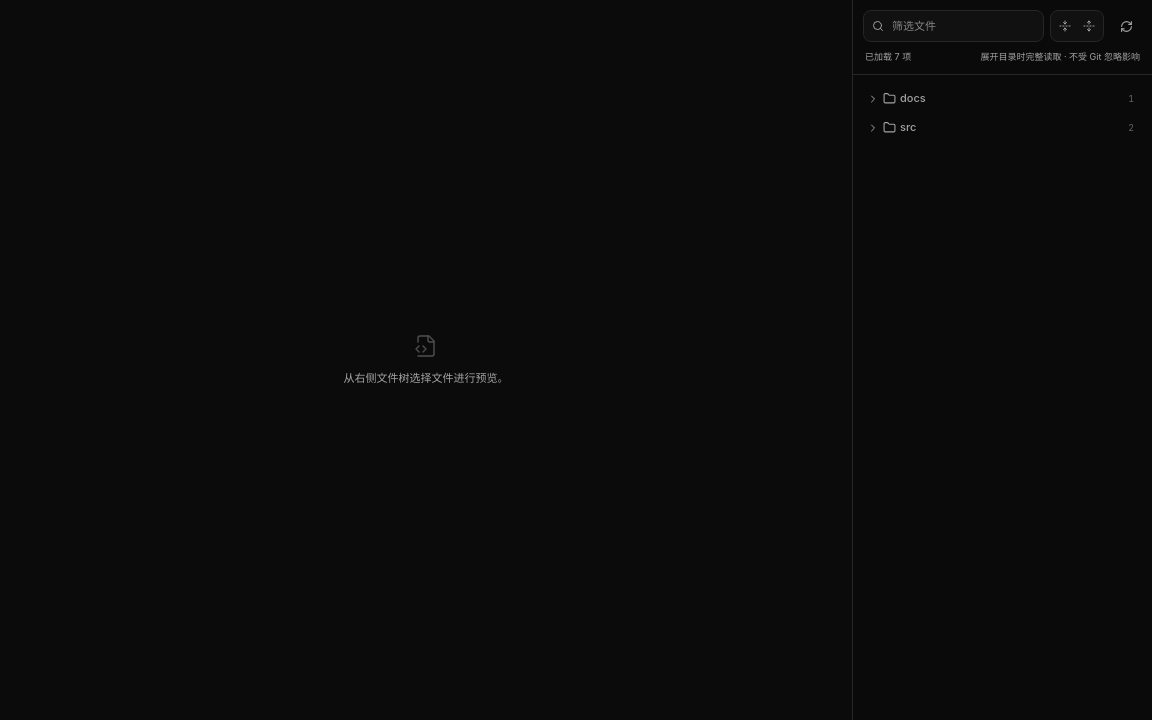
Test: FilesPanel › keeps large trees collapsed until the selected directory is opened
Click the button "src 2". click: (873, 128)
box: top-left (863, 114), bottom-right (1142, 142)
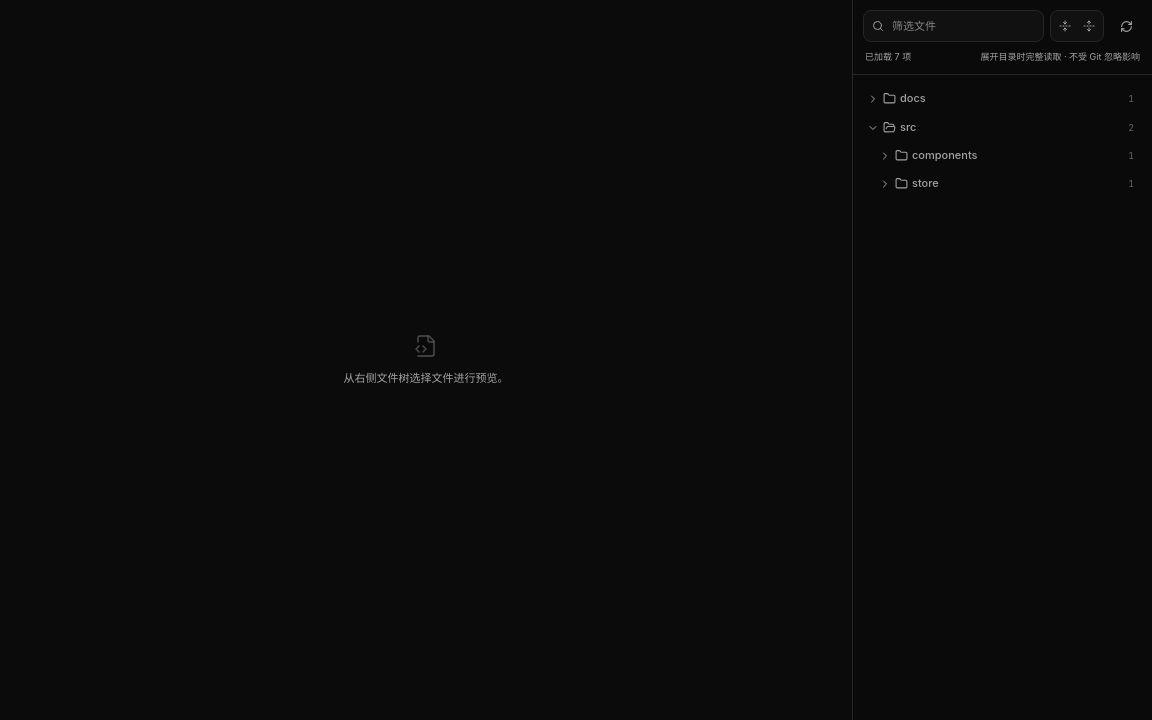
Now the text "components" is shown, box top-left (912, 148), bottom-right (978, 162)
Click the button "components 1". click: (945, 155)
box: top-left (863, 142), bottom-right (1142, 170)
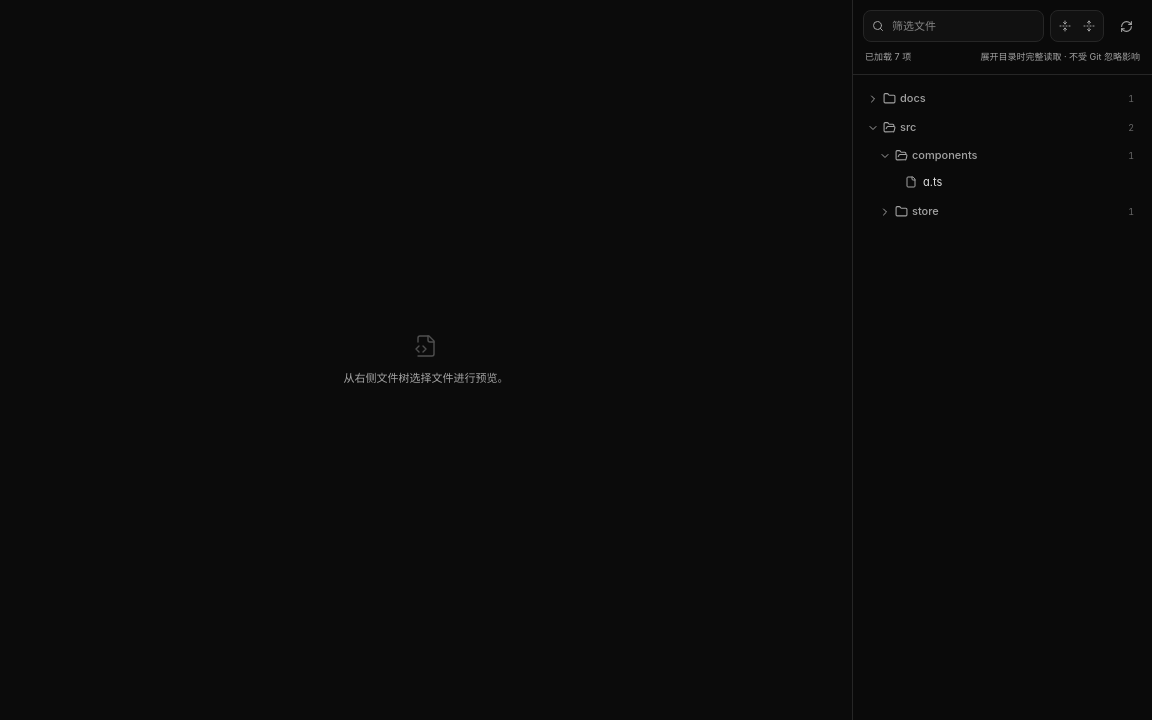
Now the text "a.ts" is shown, box top-left (923, 174), bottom-right (942, 188)
